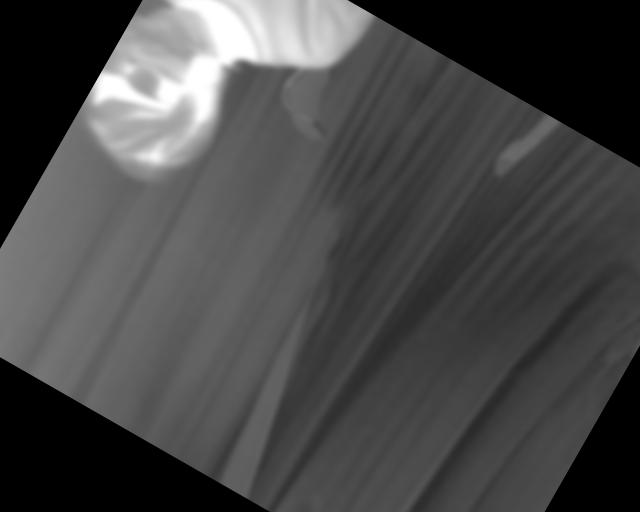face: (68, 1, 264, 200)
